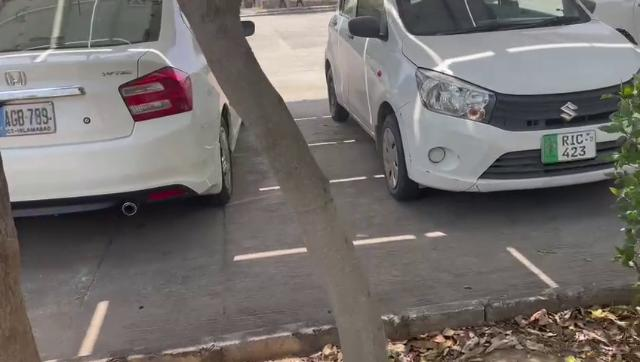plate: (542, 130, 596, 164)
